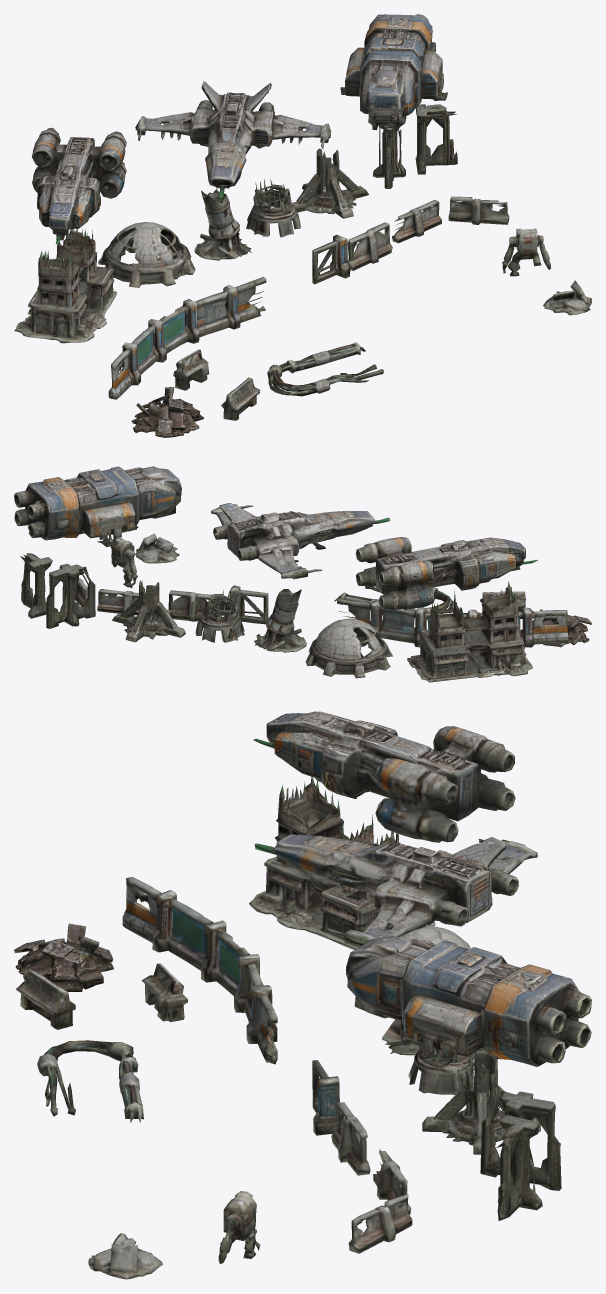
The model's file is Mapa4.glb.
3 renders of one model, top to bottom at view 1: azimuth 30°, elevation 25°; view 2: azimuth 150°, elevation 25°; view 3: azimuth 270°, elevation 25°, orthographic. The views are drawn at different scales.
Parts seen in each view (by area): view 1: tripo_node_7628f1bb-49d9-47f1-9d0b-a14e15215b52; view 2: tripo_node_7628f1bb-49d9-47f1-9d0b-a14e15215b52; view 3: tripo_node_7628f1bb-49d9-47f1-9d0b-a14e15215b52.
Boxes of the visible parts, x1,y1,x2,y2 form: tripo_node_7628f1bb-49d9-47f1-9d0b-a14e15215b52: (14, 14, 591, 437); tripo_node_7628f1bb-49d9-47f1-9d0b-a14e15215b52: (14, 466, 591, 682); tripo_node_7628f1bb-49d9-47f1-9d0b-a14e15215b52: (14, 711, 591, 1279).
Bounding box in the file's own units: 0.9816 × 0.3522 × 0.6818.
Materials: 1 (1 with a texture image).
